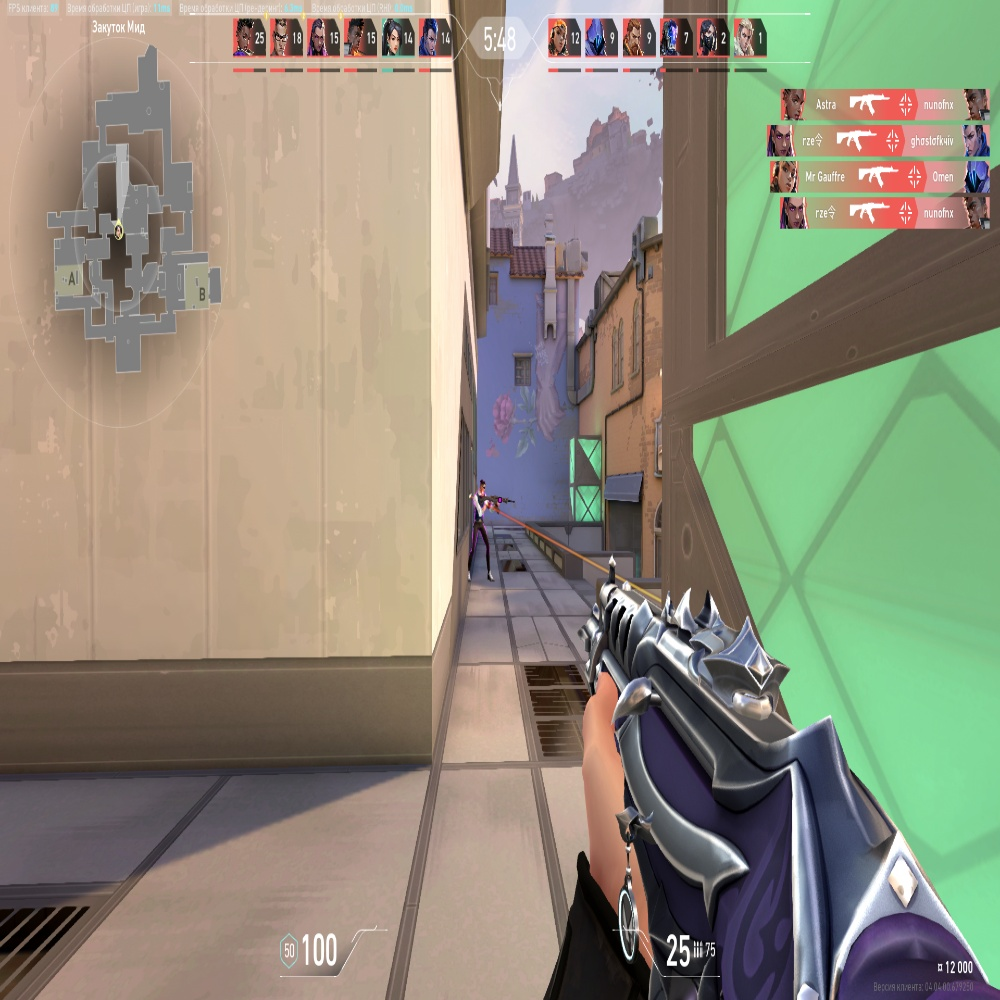body: (473, 495, 486, 522)
head: (478, 480, 486, 493)
